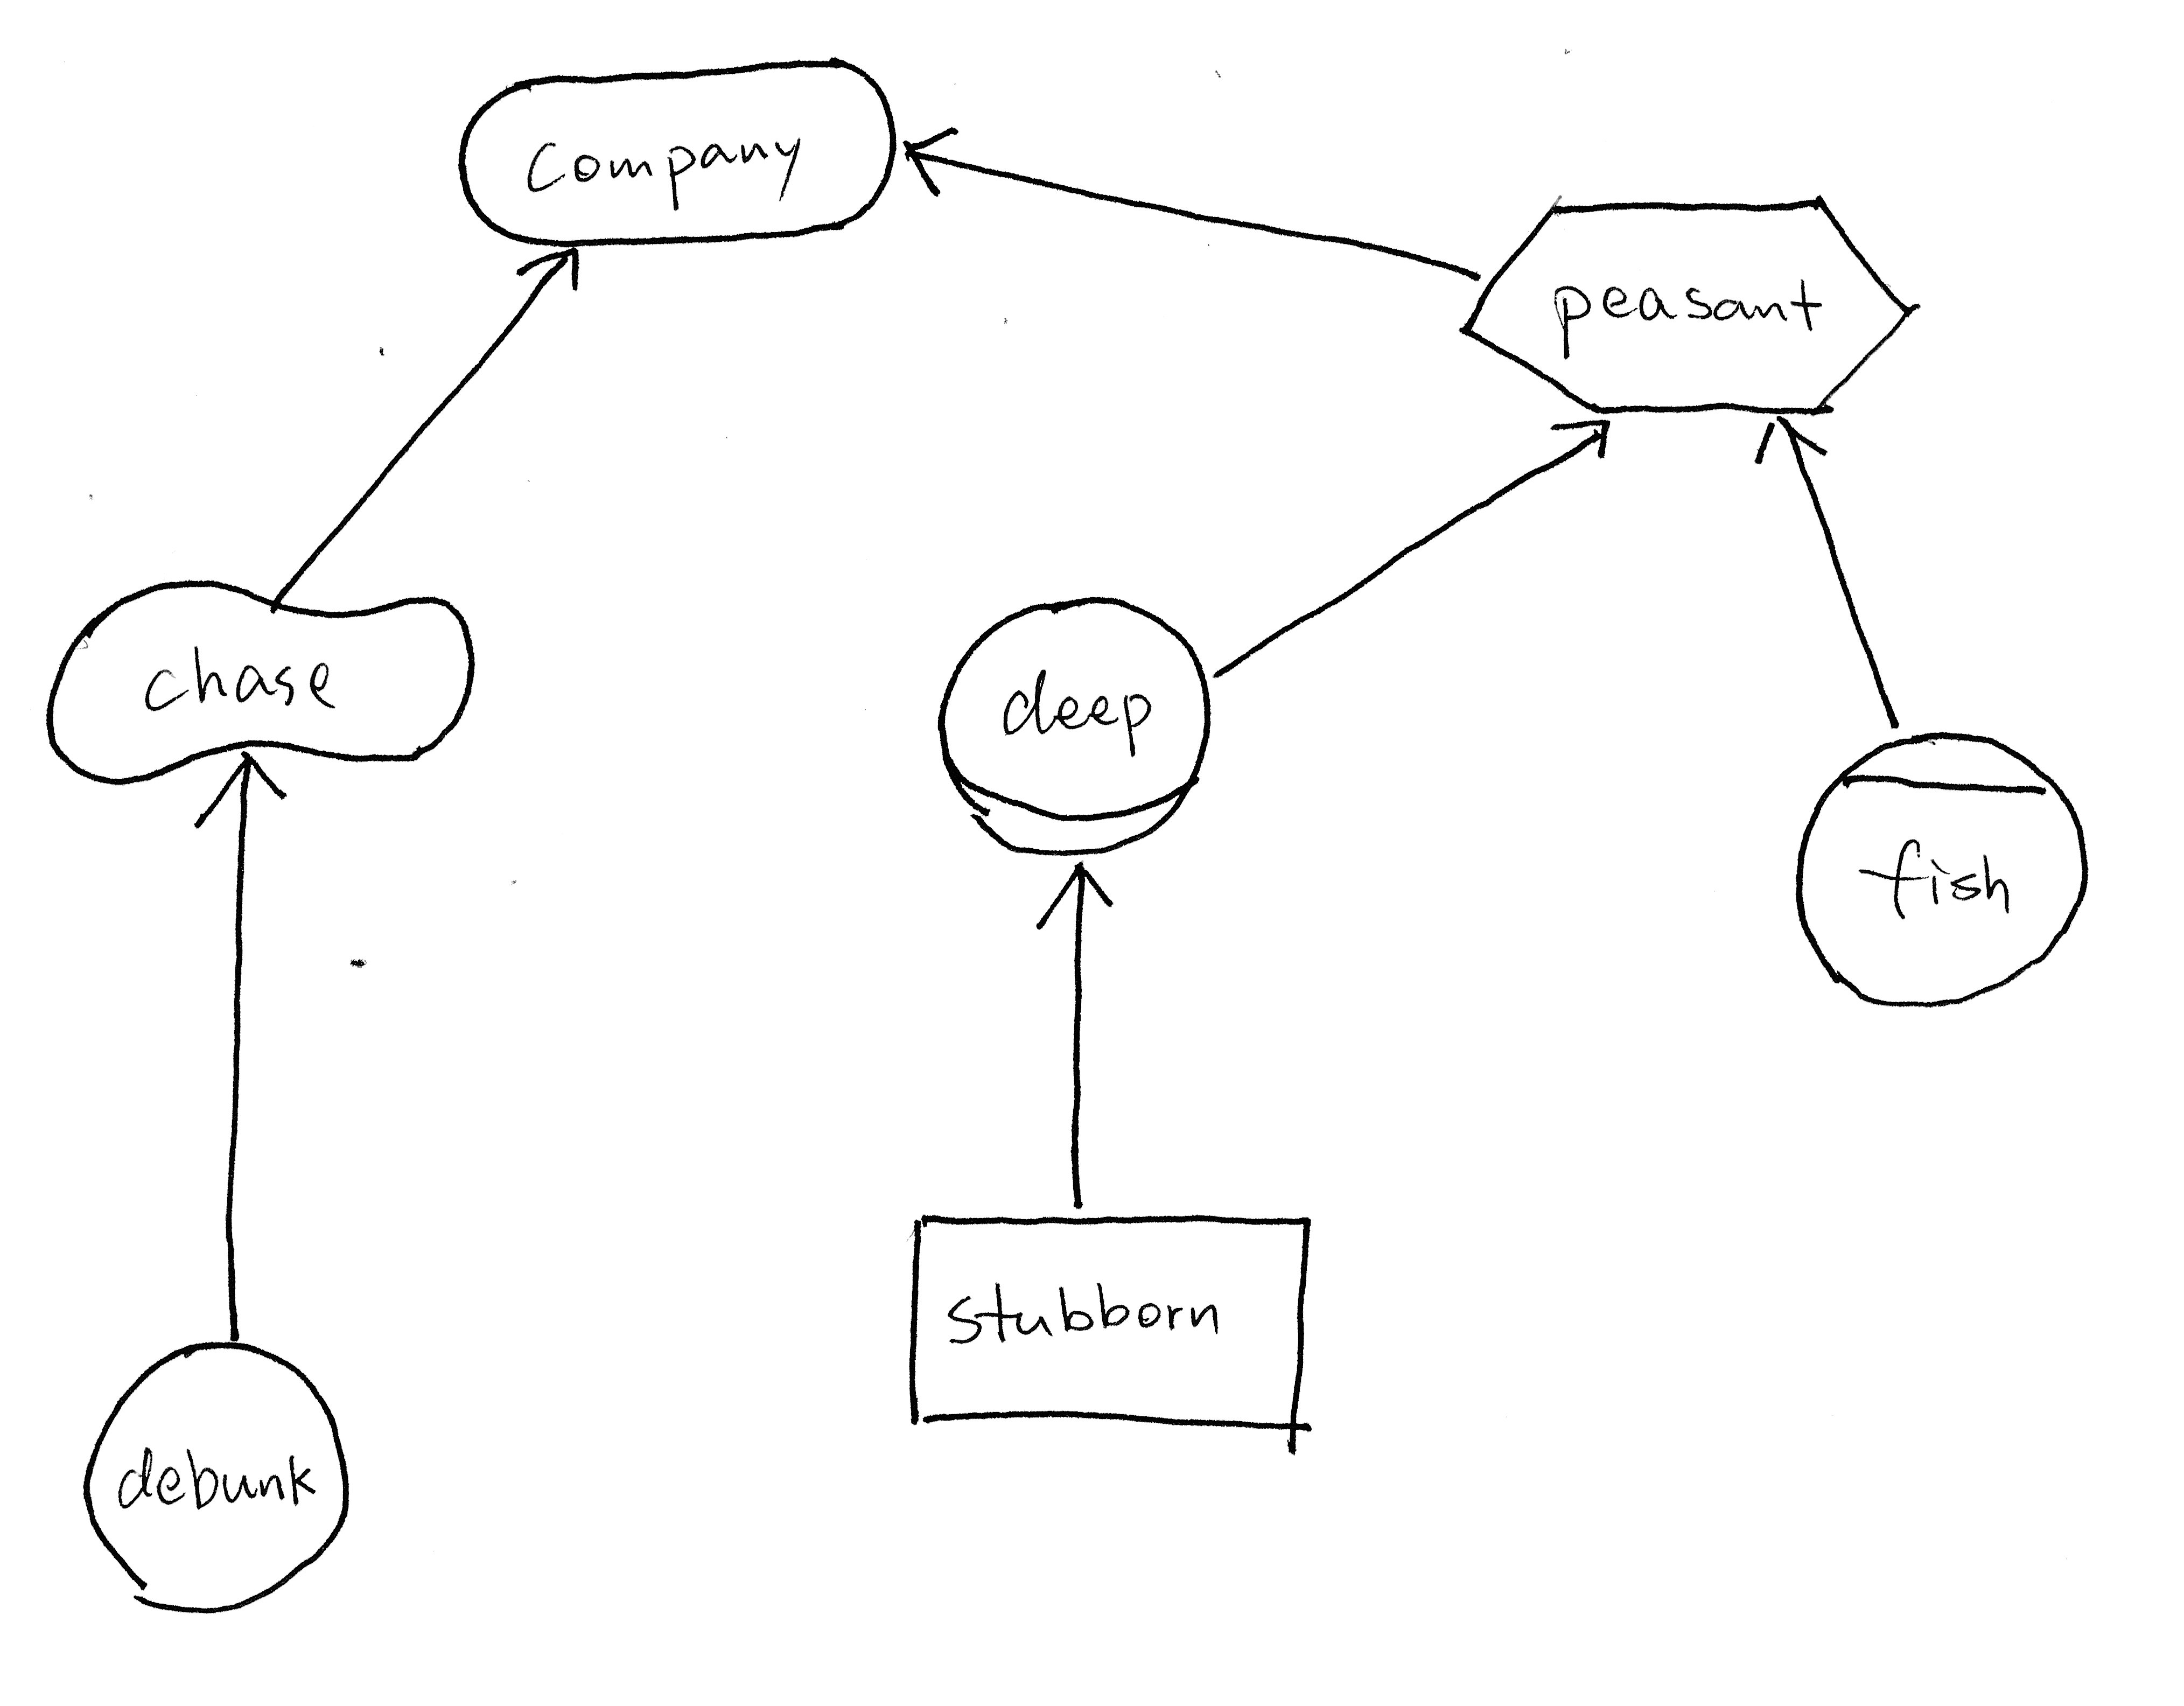actor: (60, 1323, 388, 1630)
agent: (1776, 716, 2102, 1029)
arrow: (181, 738, 300, 842), (1018, 846, 1133, 933), (1727, 394, 1837, 481), (493, 225, 599, 314), (888, 103, 970, 211), (1542, 394, 1624, 475)
goal: (425, 37, 922, 270)
quality: (23, 560, 496, 796)
resource: (883, 1197, 1347, 1467)
role: (915, 575, 1225, 871)
task: (1429, 170, 1934, 440)
